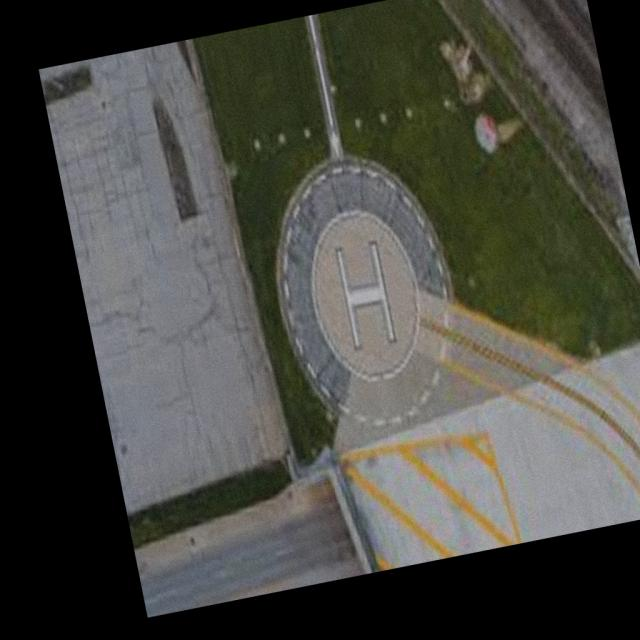helipad: (305, 206, 423, 383)
